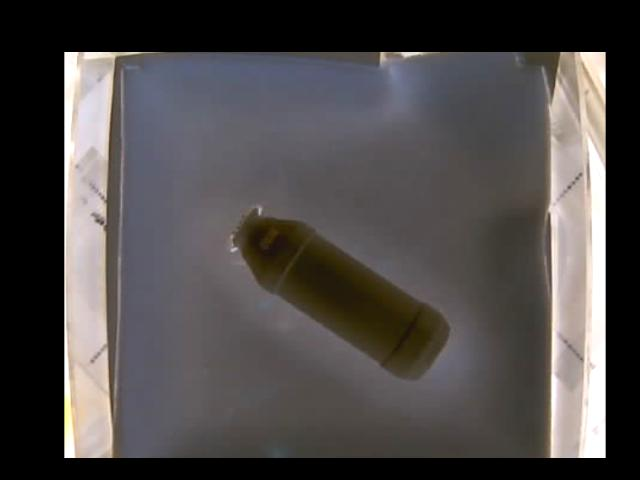Bottle: (227, 203, 449, 381)
